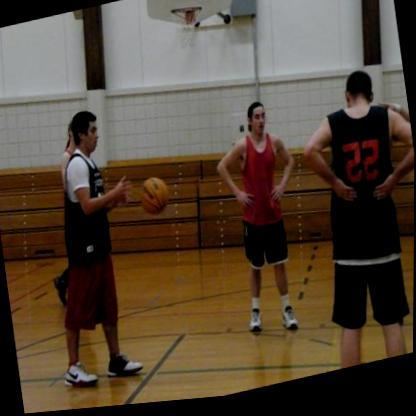basketball: (137, 177, 170, 221)
rim: (169, 5, 202, 22)
